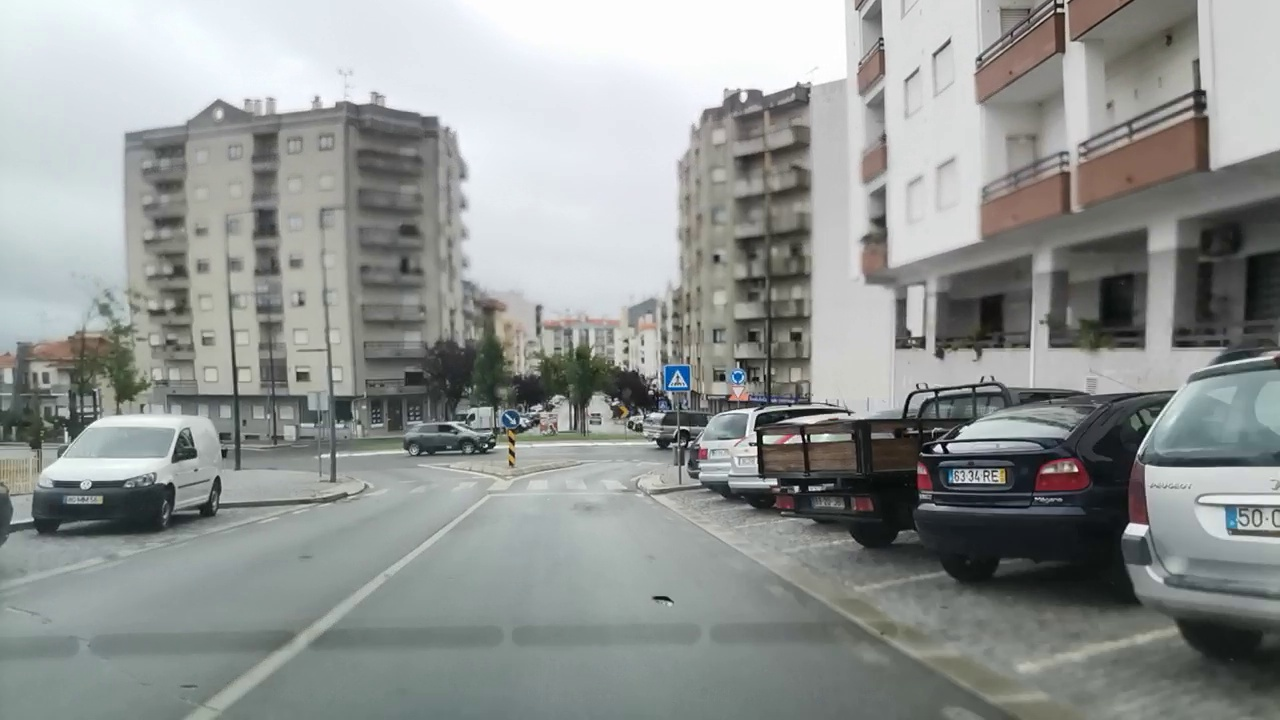Stairs: (358, 477, 628, 494)
